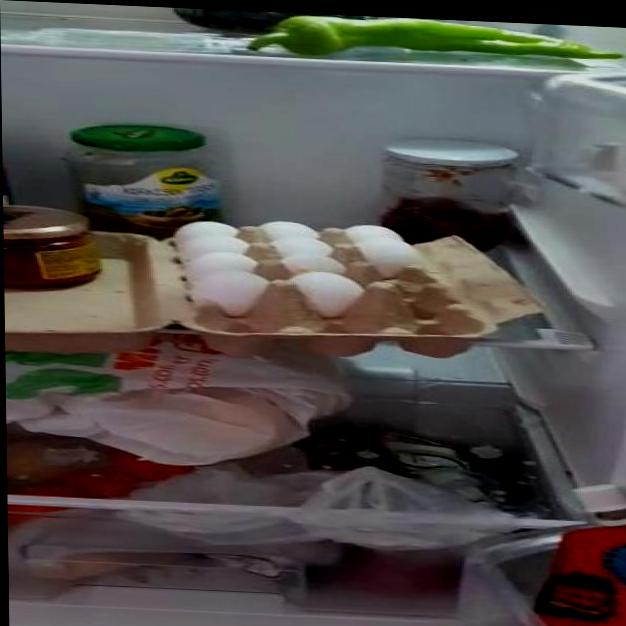eggs: (175, 222, 422, 315)
green chilies: (252, 12, 606, 69)
tomato: (61, 468, 140, 496), (114, 454, 181, 482)
